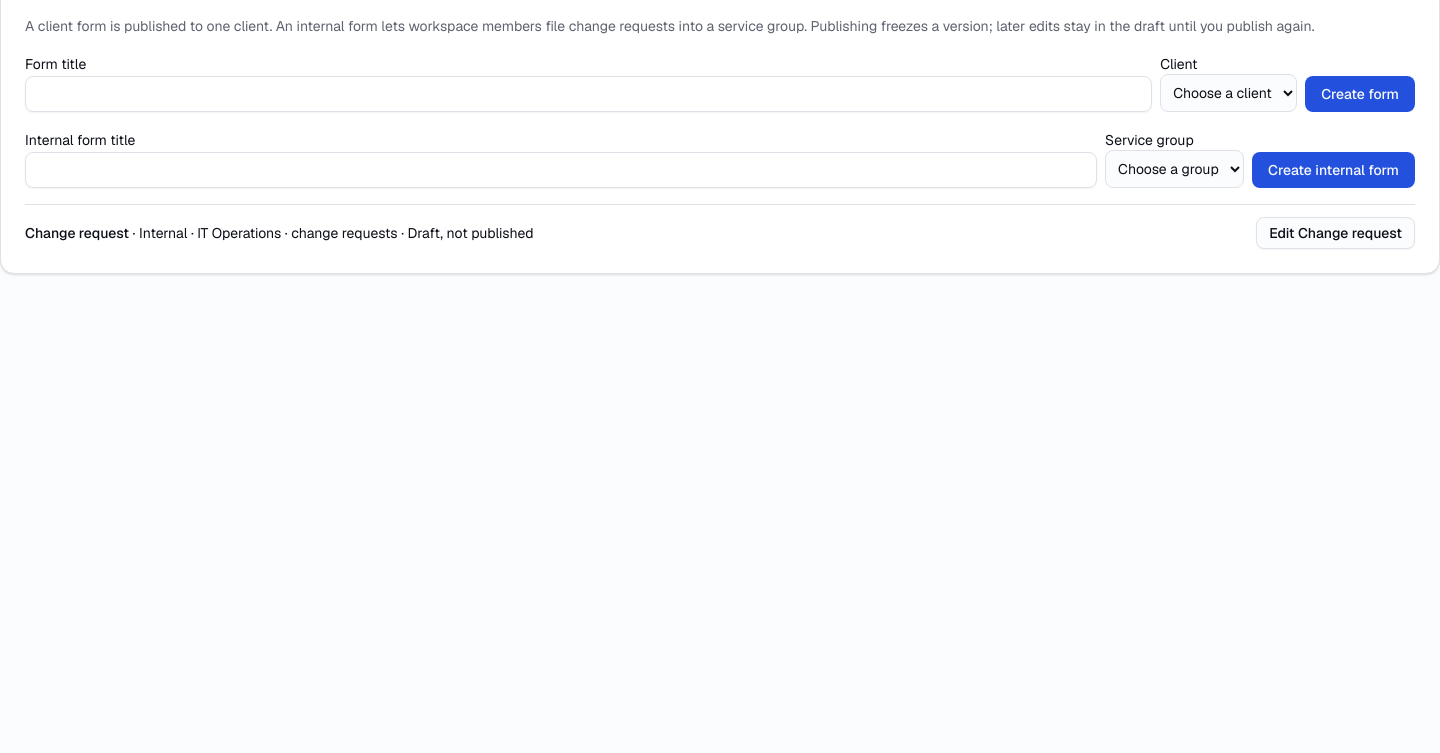
Test: FormSettings › labels internal forms by group and leaves file uploads to the request page
Expected: the text "Internal · IT Operations · change requests" is shown, x1=139 y1=224 x2=398 y2=242
What coordinates should you click on to do the following:
click the button "Edit Change request"
I would click on:
 (1336, 233)
Its box is x1=1256 y1=217 x2=1415 y2=249.
(page scrolled)
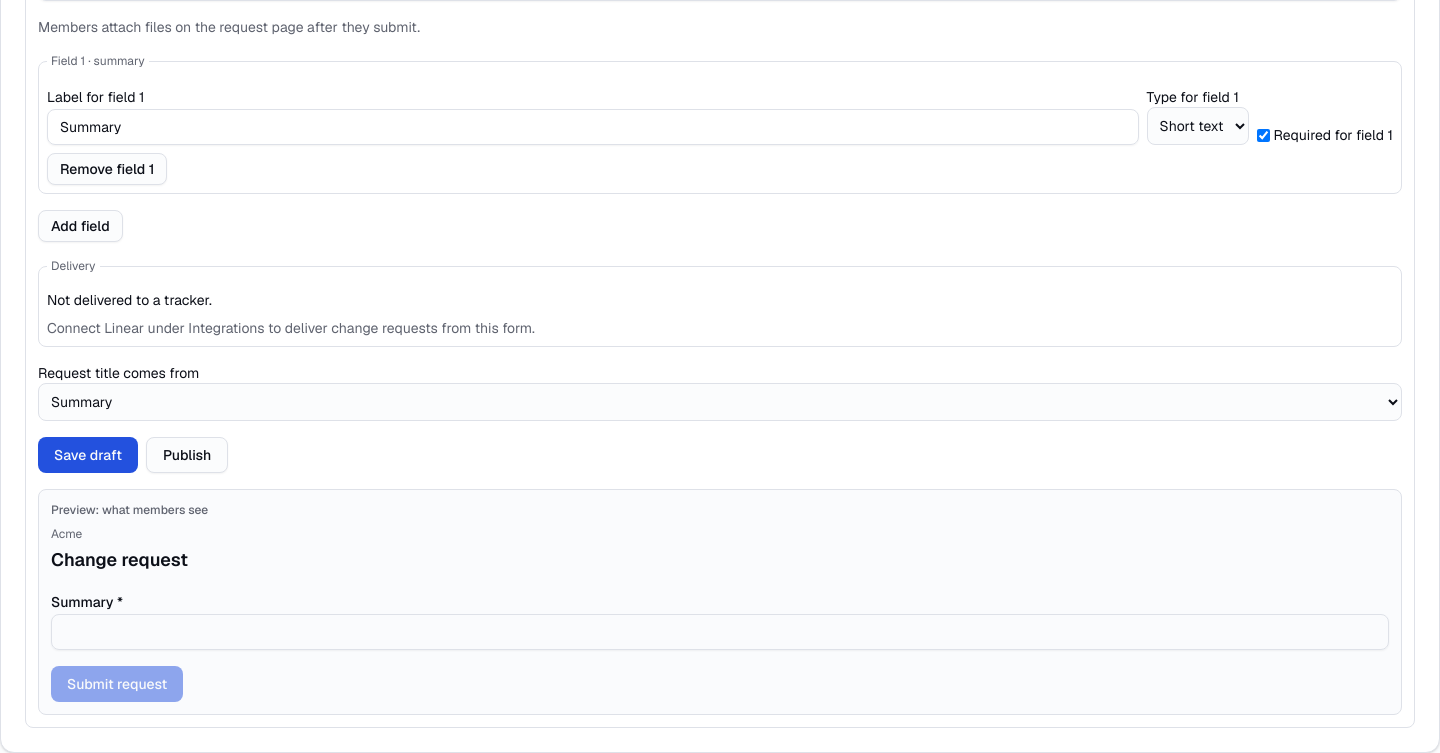
Now the text "Members attach files on the request page after they submit." is shown, box x1=38 y1=18 x2=420 y2=36
Now the text "Preview: what members see" is shown, box x1=51 y1=502 x2=208 y2=518
